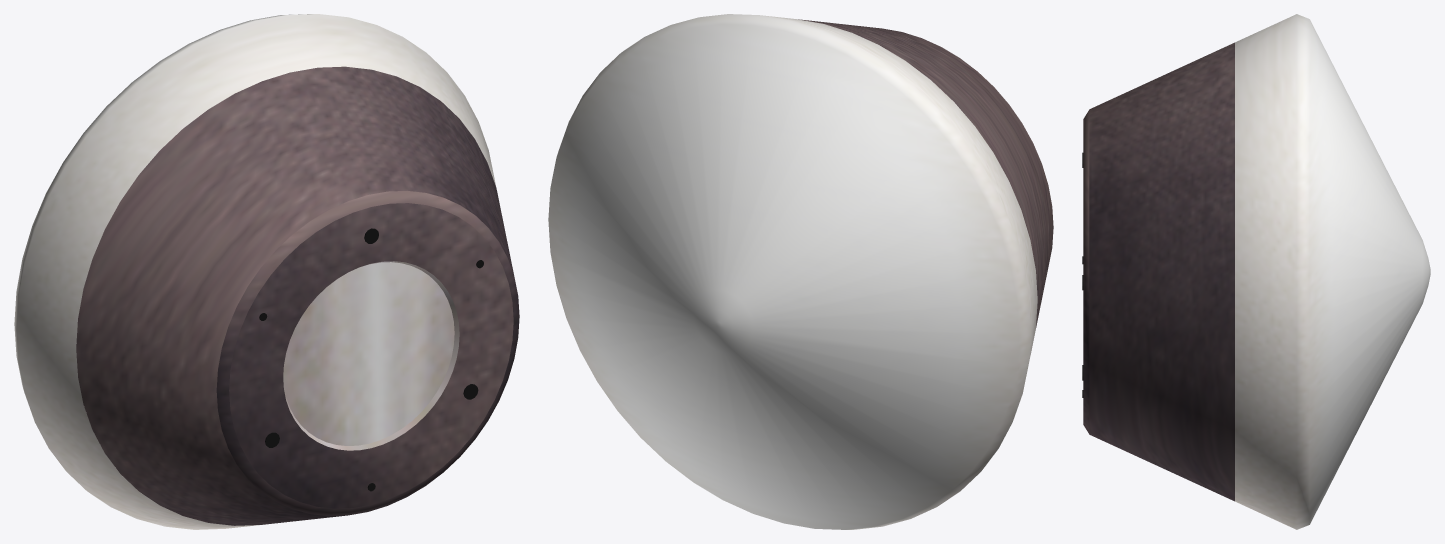
The model's file is Stardust capsule.glb.
3 renders of one model, left to right at view 1: azimuth 30°, elevation 25°; view 2: azimuth 150°, elevation 25°; view 3: azimuth 270°, elevation 25°, orthographic. The views are drawn at different scales.
Visible parts, largest first — view 1: Stardust_tex_01_c, Stardust_tex_01_c2, Stardust_tex_02_c; view 2: Stardust_tex_01_c2, Stardust_tex_01_c; view 3: Stardust_tex_01_c2, Stardust_tex_01_c.
Part boxes in pixels (x1,y1,x2,y2): Stardust_tex_01_c: (76, 66, 519, 525); Stardust_tex_01_c2: (14, 14, 495, 529); Stardust_tex_02_c: (259, 228, 483, 491); Stardust_tex_01_c2: (548, 14, 1037, 529); Stardust_tex_01_c: (798, 19, 1053, 327); Stardust_tex_01_c2: (1235, 14, 1430, 529); Stardust_tex_01_c: (1083, 42, 1234, 501).
Bounding box in the file's own units: 0.7232 × 0.7232 × 0.4877.
Materials: 4 (3 with a texture image).
